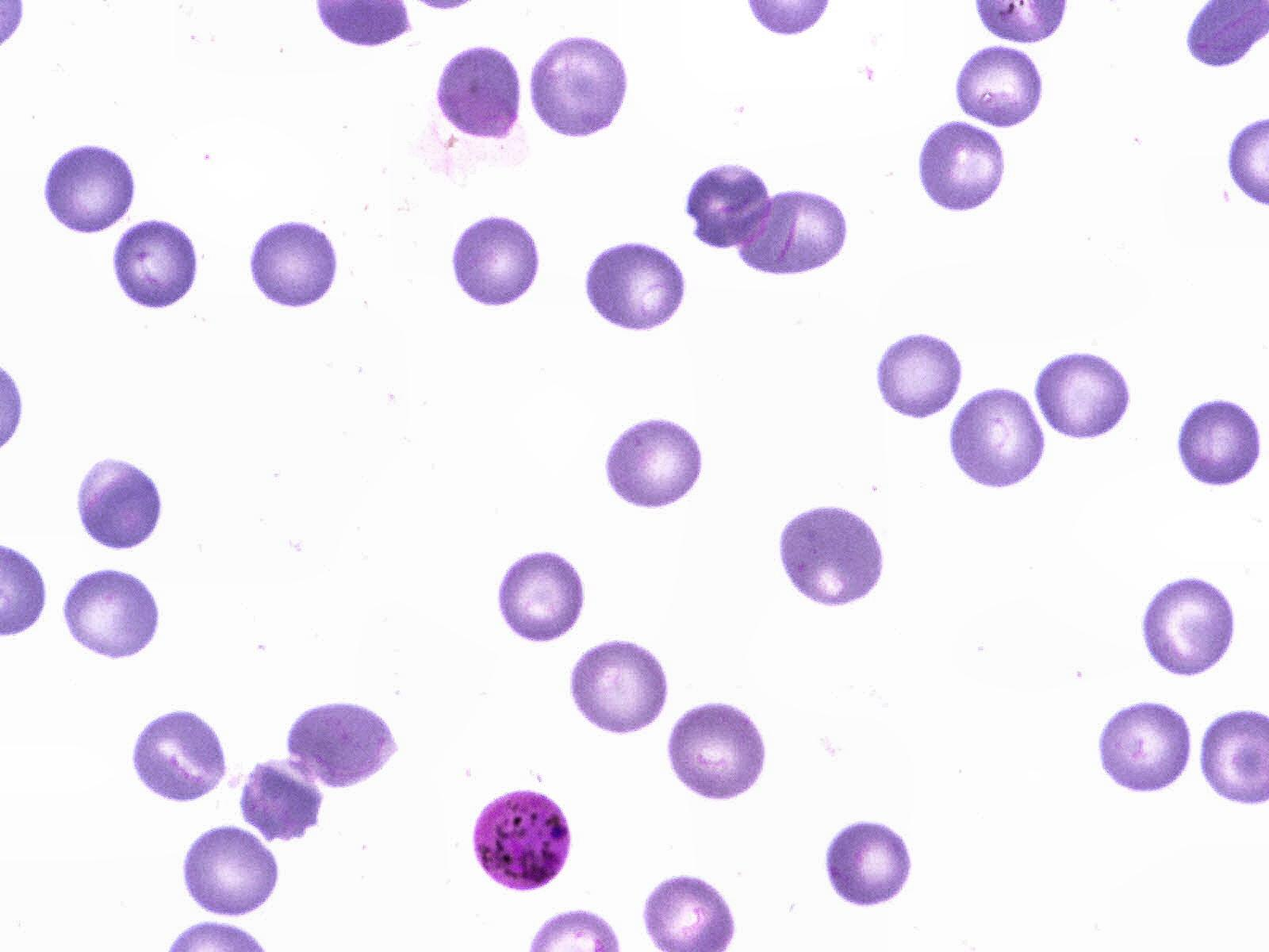Infected: (468, 788, 573, 893)
Uninfected: (527, 31, 631, 143), (945, 383, 1049, 494), (665, 699, 772, 804), (568, 636, 673, 739), (781, 501, 884, 606), (579, 239, 690, 335), (129, 710, 230, 813), (1141, 574, 1240, 679), (286, 697, 401, 787), (605, 412, 705, 512), (1100, 698, 1198, 800), (43, 139, 141, 238), (431, 39, 522, 145), (62, 566, 164, 660), (75, 451, 169, 553), (182, 824, 282, 918), (1033, 348, 1134, 440), (497, 548, 590, 647), (740, 190, 847, 275), (454, 212, 546, 309), (108, 217, 203, 310), (918, 120, 1010, 214), (684, 160, 771, 255), (251, 217, 340, 309), (953, 44, 1045, 132), (825, 818, 914, 908), (878, 329, 966, 420), (1178, 399, 1266, 489), (237, 757, 328, 841)
